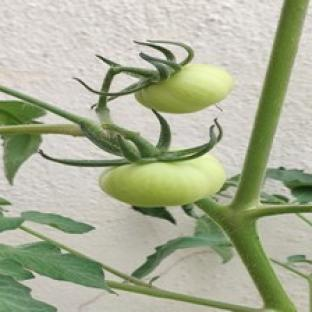Tomato: (99, 155, 225, 207), (136, 65, 233, 114)
